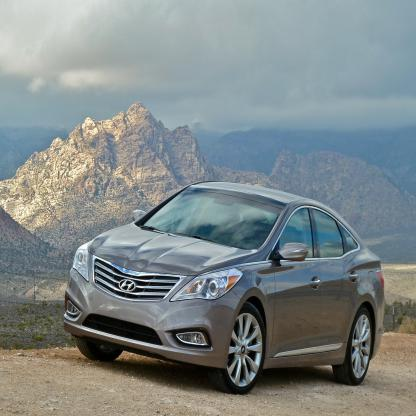Vehicle: (62, 180, 389, 397)
